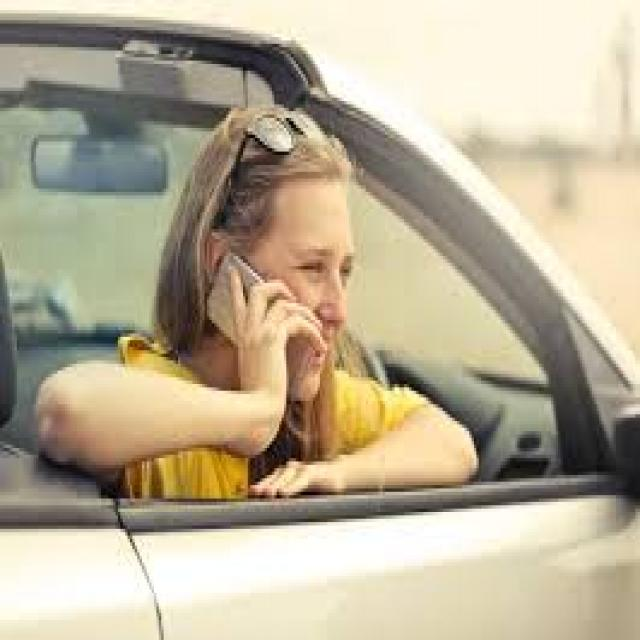Cellphone_calling: (190, 215, 318, 408)
